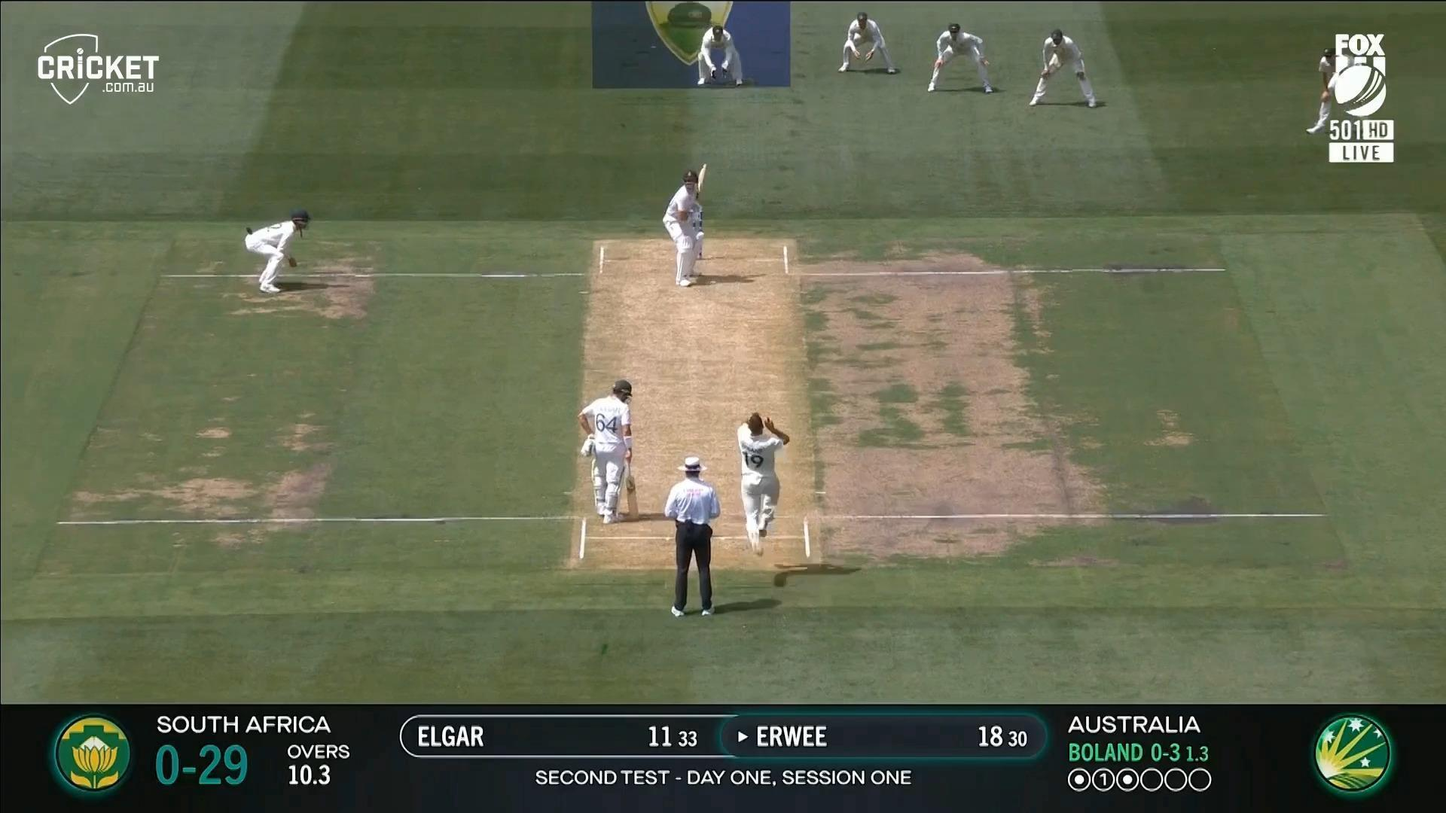BM 1: (662, 161, 708, 288)
BO: (737, 410, 793, 558)
